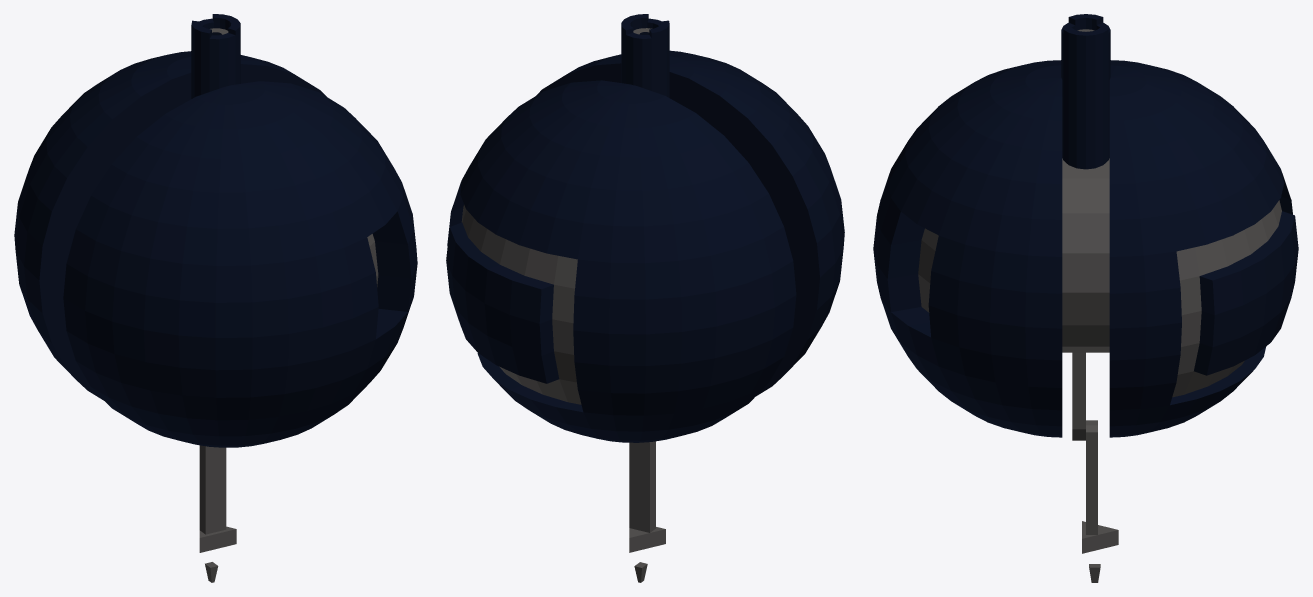
The model's file is Bot.fbx.
3 renders of one model, left to right at view 1: azimuth 30°, elevation 25°; view 2: azimuth 150°, elevation 25°; view 3: azimuth 270°, elevation 25°, orthographic.
Parts seen in each view (by area): view 1: Body, Ocular, Cube.001, Cylinder; view 2: Body, Ocular, Cube.001, Cylinder; view 3: Body, Ocular, Cube.001, Cube, Cylinder.
Boxes of the visible parts, x1,y1,x2,y2 form: Body: (14,51,417,447); Ocular: (191,14,240,98); Cube.001: (199,445,226,534); Cylinder: (199,526,236,552); Body: (446,50,844,442); Ocular: (621,14,669,97); Cube.001: (629,441,655,532); Cylinder: (629,527,665,552); Body: (873,60,1298,437); Ocular: (1061,14,1110,169); Cube.001: (1086,420,1097,534); Cube: (1072,352,1085,440); Cylinder: (1082,521,1118,553).
Size of the model in its own units: 200 by 326 by 225.
